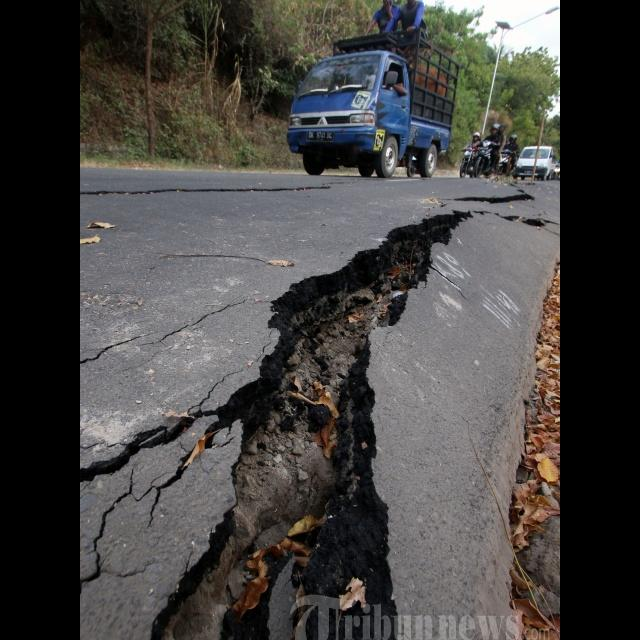lubang_kecil: (451, 179, 549, 223)
retak_memanjang: (150, 208, 471, 640), (80, 351, 240, 564), (80, 169, 330, 215)
